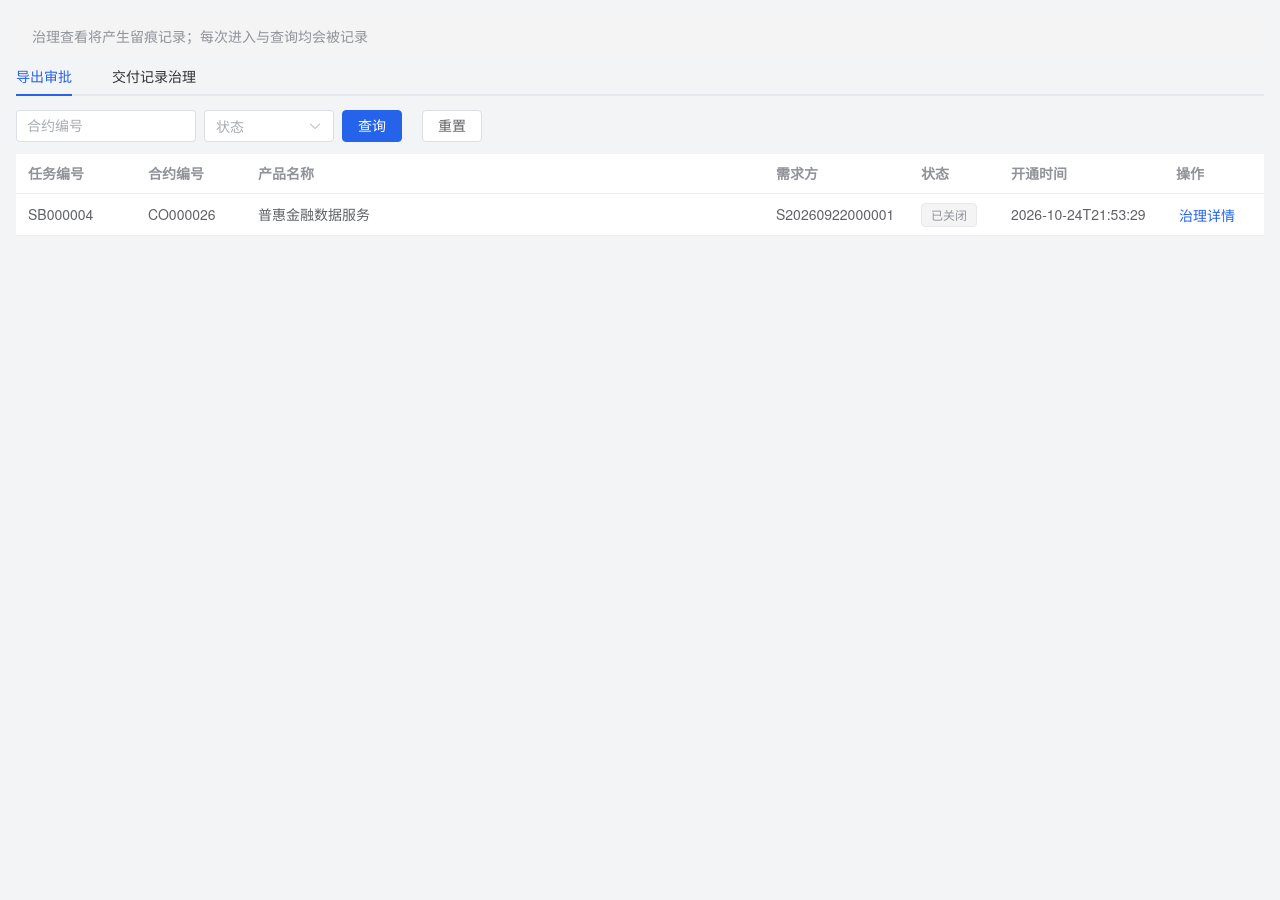
Scenario: Tab1 导出审批（T11） › 已出结论行：审核按钮禁用（结论一经作出不可修改）
Click the button "治理详情" at x=1207, y=216, box [1176,206,1238,226]
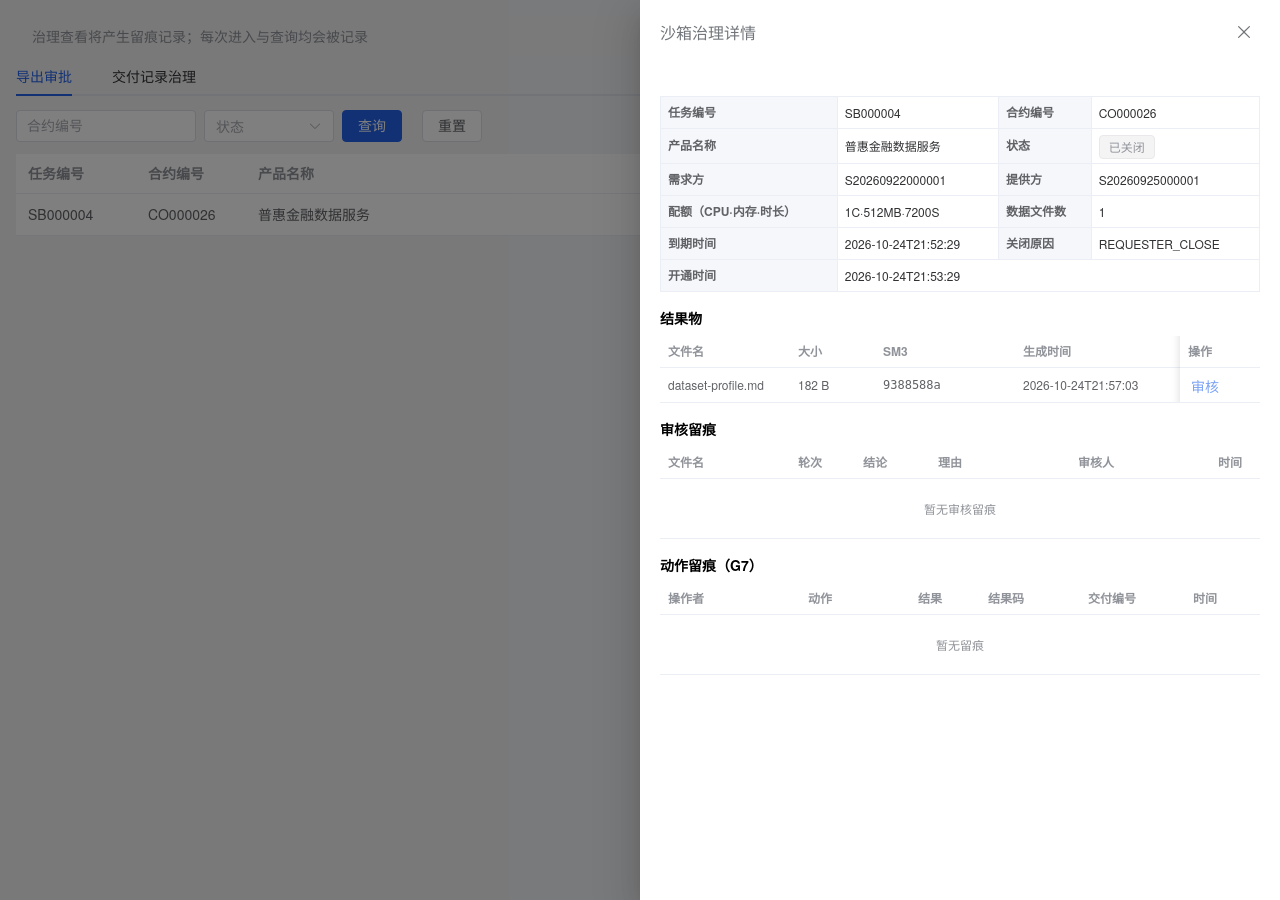
Check: the button "审核" is disabled, box [1188,377,1222,397]
